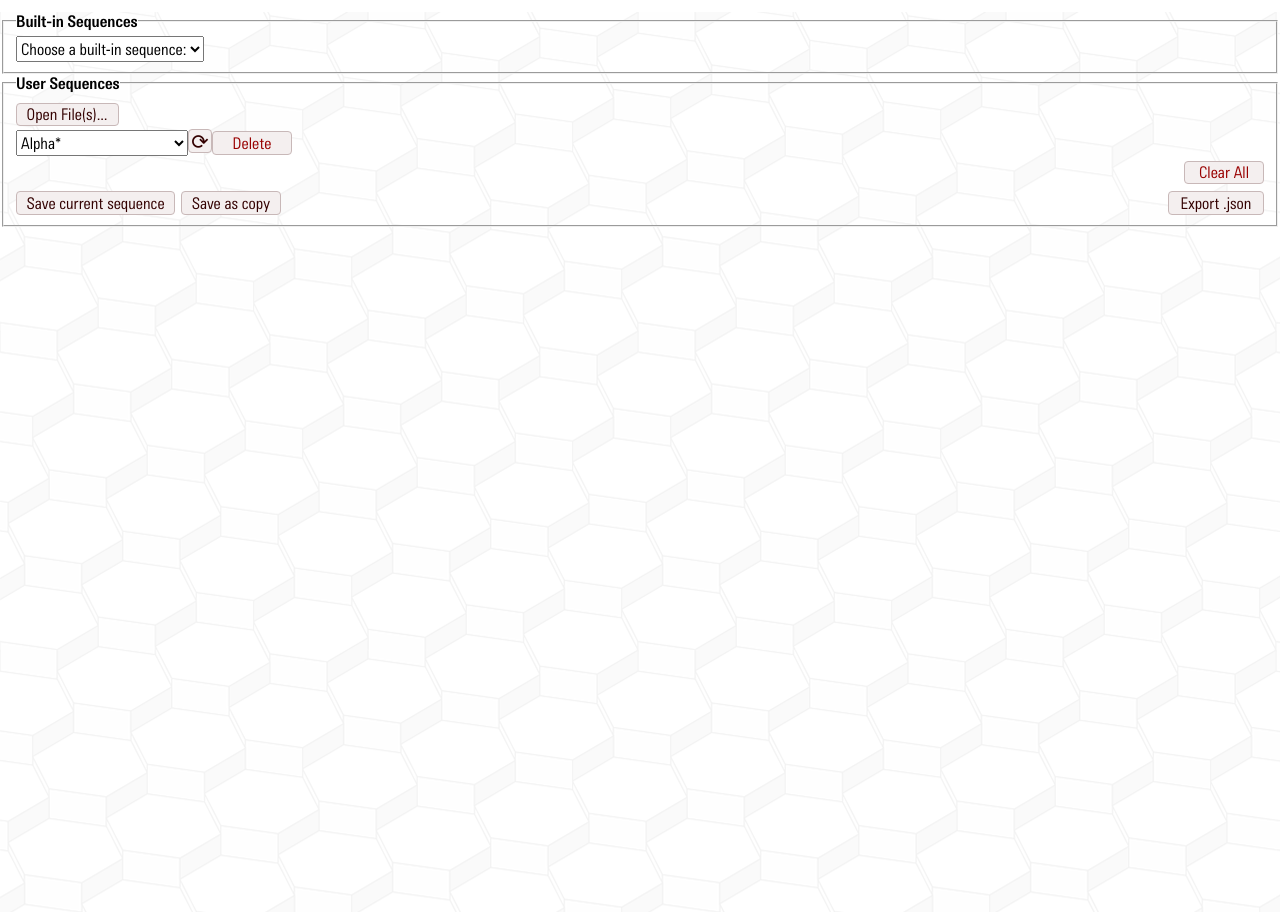
SequenceLibrary › keeps save attached to the loaded user sequence after renaming
Click the button "Save current sequence": x=96, y=203 [16,191,175,214]
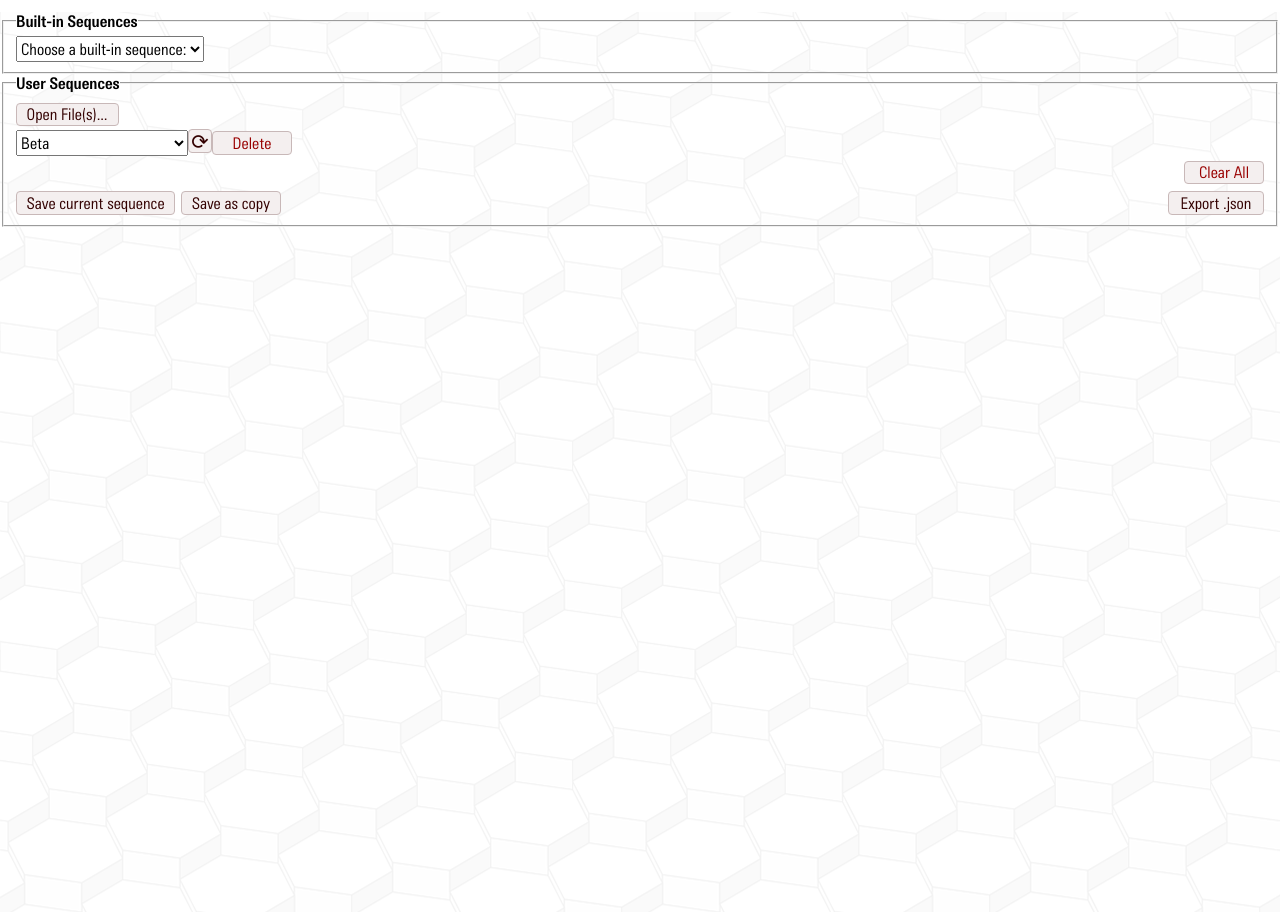
Check: the dropdown named "User sequences" shows "Beta", box [16,130,188,156]
